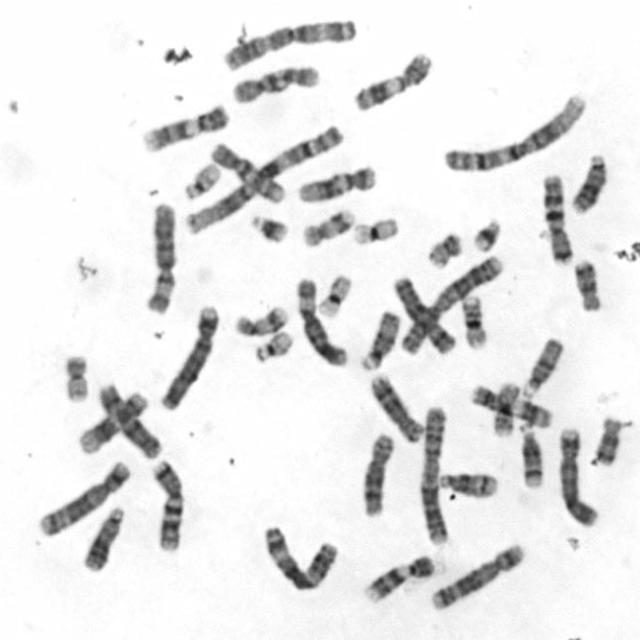A1: (180, 122, 347, 235), (438, 89, 590, 175)
A2: (396, 251, 506, 357), (417, 401, 451, 547)
A3: (218, 15, 359, 73), (260, 520, 340, 594)
B4: (156, 300, 222, 411), (555, 423, 601, 528)
B5: (34, 456, 134, 538), (427, 540, 527, 613)
C10: (207, 140, 286, 205), (227, 60, 321, 106)
C11: (349, 48, 435, 113), (466, 381, 552, 429)
C12: (74, 386, 150, 456), (294, 160, 378, 206)
C6: (292, 272, 348, 368), (140, 196, 179, 318)
C7: (148, 454, 186, 554), (539, 170, 575, 265)
C8: (366, 371, 426, 444), (357, 429, 397, 519)
C9: (139, 99, 232, 154), (358, 552, 436, 604)
D13: (80, 503, 127, 572), (567, 149, 610, 214)
D14: (434, 467, 499, 500), (515, 418, 544, 489)
D15: (356, 307, 403, 373), (519, 334, 565, 399)
E16: (491, 380, 521, 442), (458, 291, 489, 350)
E17: (300, 204, 358, 248), (230, 301, 290, 338)
E18: (570, 255, 603, 314), (590, 412, 622, 467)
F19: (314, 270, 355, 318), (348, 213, 400, 247)
F20: (60, 351, 92, 405), (422, 229, 465, 268)
G21: (246, 209, 291, 245), (469, 215, 503, 253)
G22: (179, 158, 223, 202), (251, 326, 295, 364)
X: (389, 273, 457, 356), (96, 379, 162, 460)
